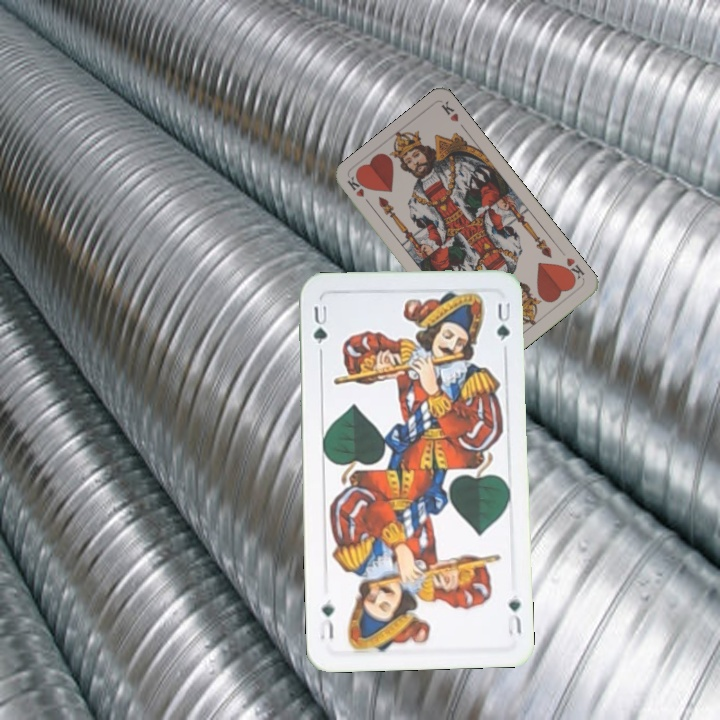GU: (503, 594, 525, 639), (309, 301, 330, 346)
HK: (343, 172, 375, 209), (559, 254, 587, 284)
